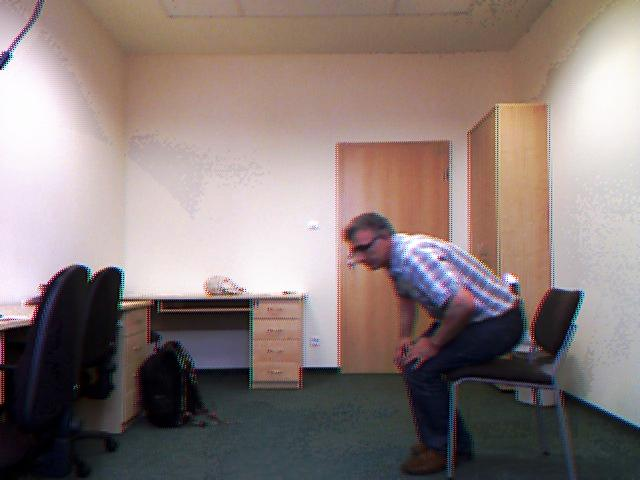near-fall: (331, 202, 543, 480)
